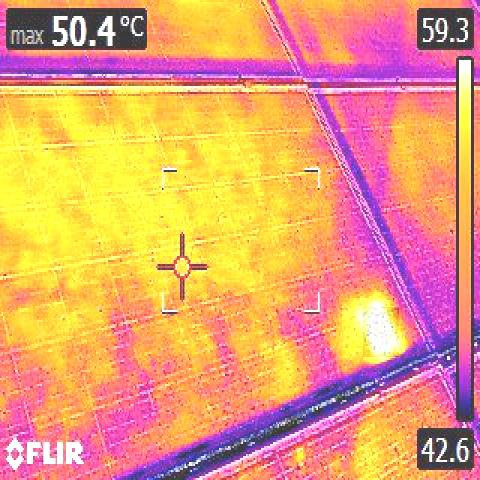fault: (363, 307, 399, 357)
